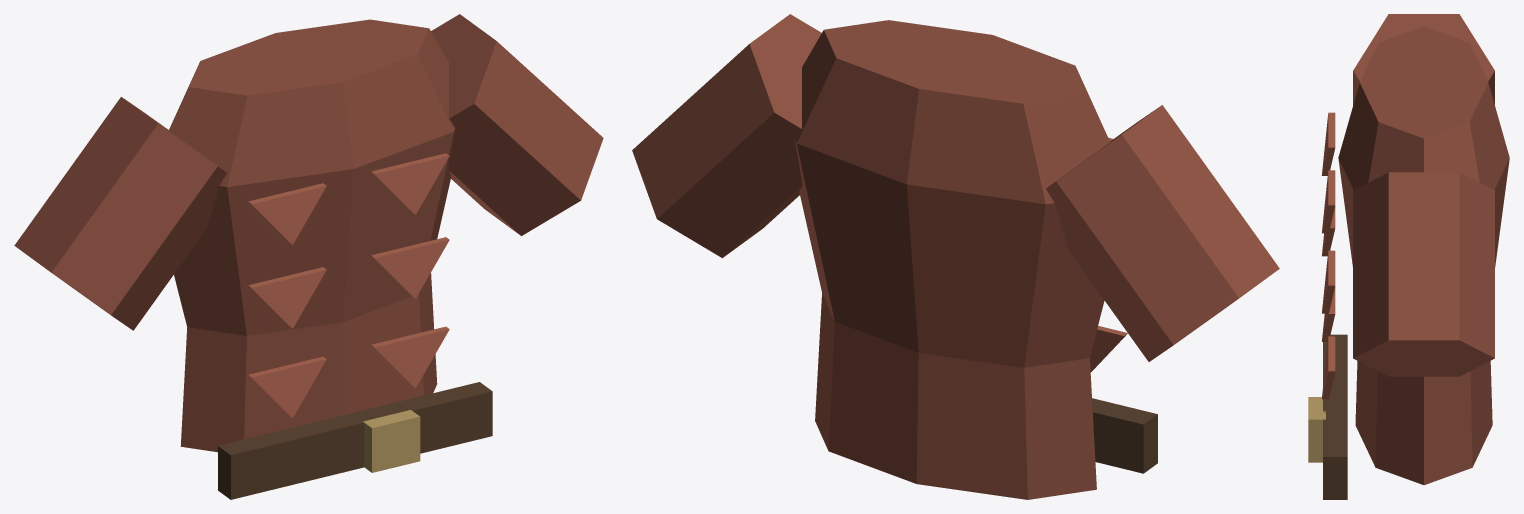
File: redHideBody.glb
3 renders of one model, left to right at view 1: azimuth 30°, elevation 25°; view 2: azimuth 150°, elevation 25°; view 3: azimuth 270°, elevation 25°, orthographic. The views are drawn at different scales.
Visible parts, largest first — view 1: redHideBody; view 2: redHideBody; view 3: redHideBody.
Part boxes in pixels (bbox=[...]): redHideBody: bbox=[14, 14, 603, 499]; redHideBody: bbox=[632, 14, 1279, 499]; redHideBody: bbox=[1308, 14, 1509, 499].
Size of the model in its own units: 1 by 0.6433 by 0.3299.
